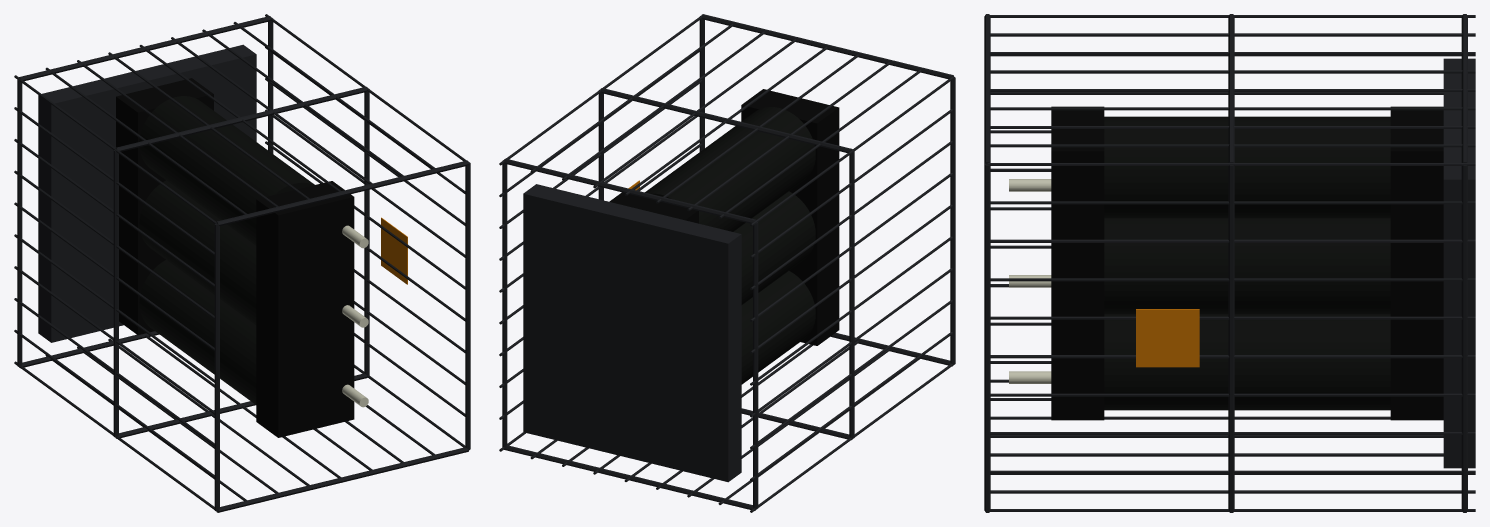
File: transformer.obj
The picture shows the model from 3 angles, left to right: view 1: azimuth 30°, elevation 25°; view 2: azimuth 150°, elevation 25°; view 3: azimuth 270°, elevation 25°; orthographic projection. The views are drawn at different scales.
Parts seen in each view (by area): view 1: transformer; view 2: transformer; view 3: transformer.
Boxes of the visible parts, <box> form: transformer: <box>14,14,470,512</box>; transformer: <box>499,14,955,512</box>; transformer: <box>984,14,1475,512</box>.
Size of the model in its own units: 1.68 by 1.83 by 2.32.
